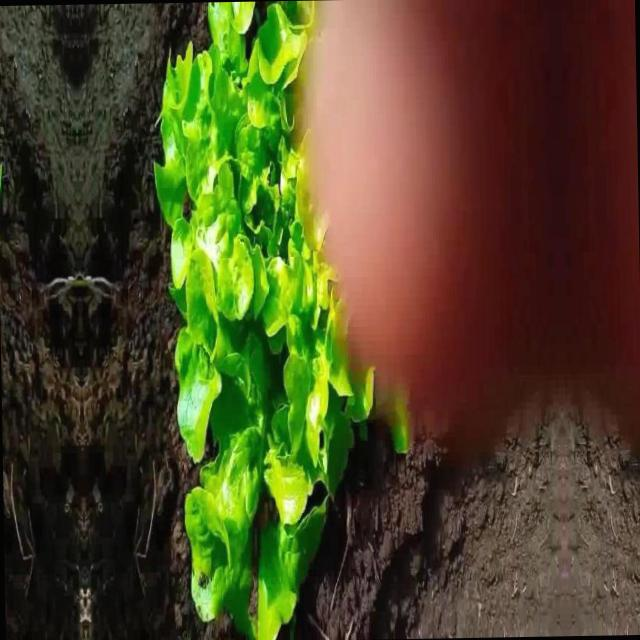healthy: (149, 0, 380, 640), (0, 5, 10, 640)
